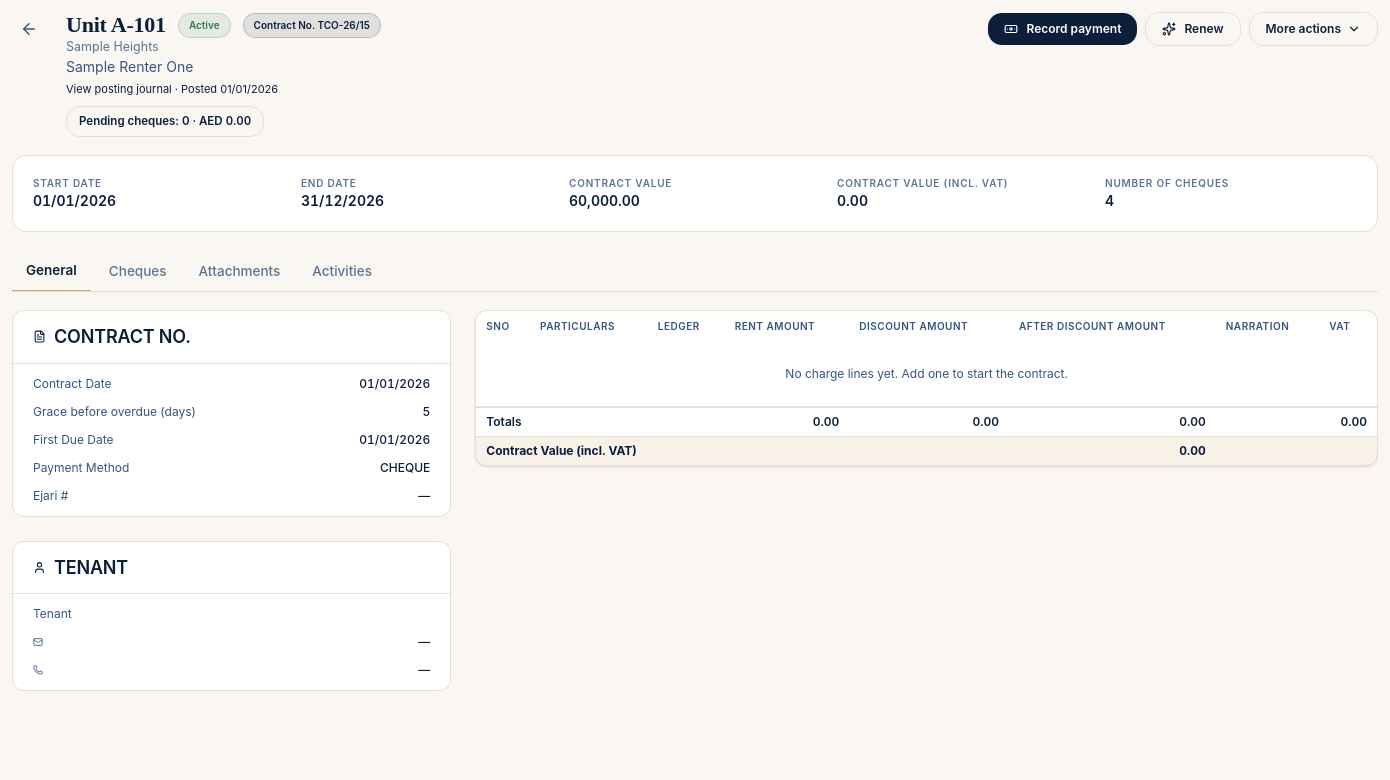
Scenario: contract header › leads an active contract with Record payment and Renew; the rest is in More actions
The width and height of the screenshot is (1390, 780).
Expected: the element with test id "lease-actions" is shown, left=988, top=12, right=1378, bottom=46
Click the button "More actions".
click(1313, 29)  # box left=1248, top=12, right=1378, bottom=46
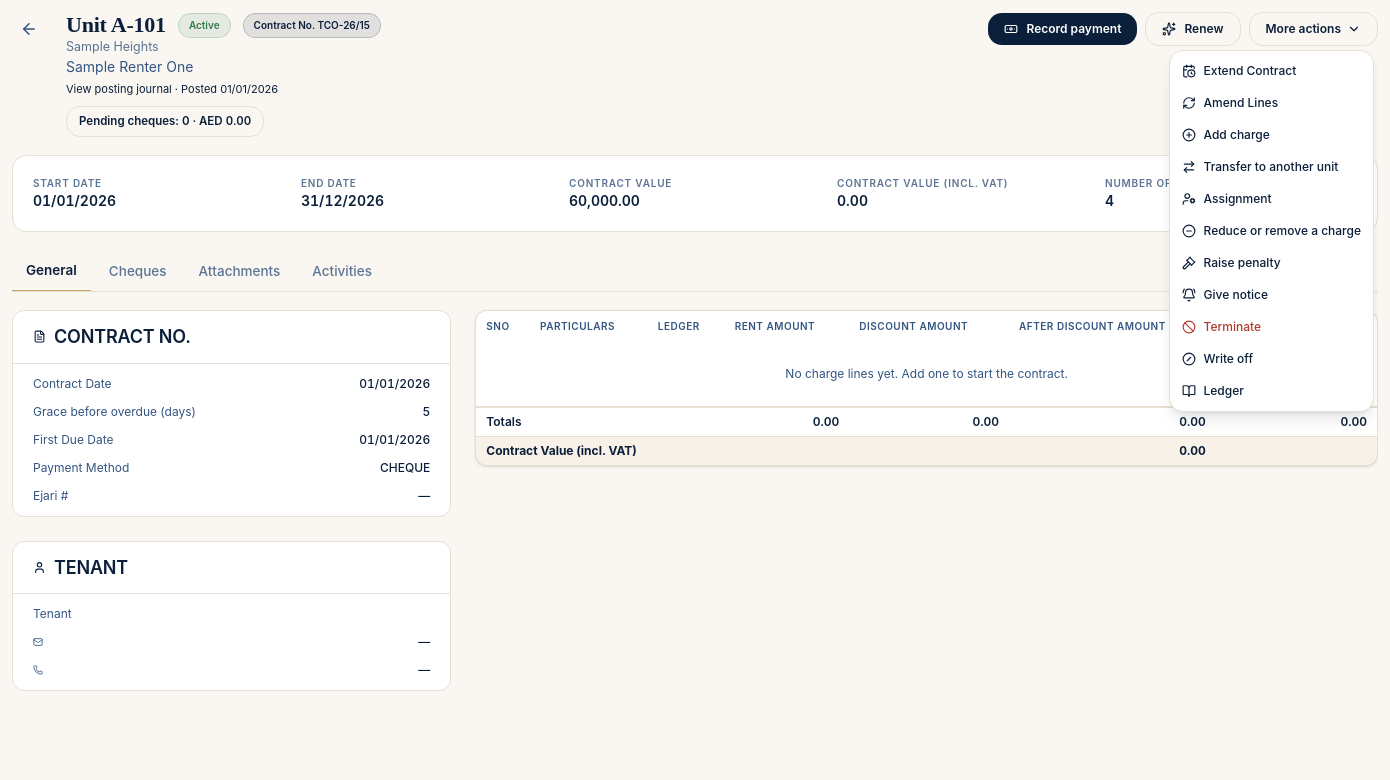
Result: the menu with test id "lease-more-actions-menu" is shown at left=1168, top=50, right=1374, bottom=412
